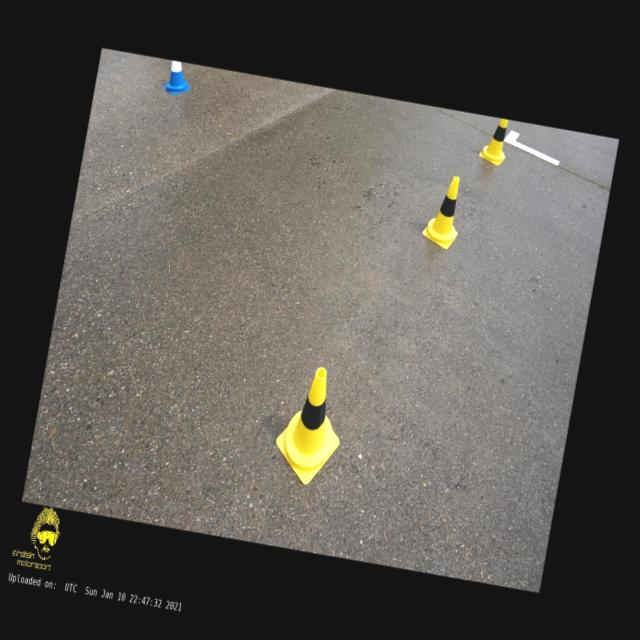blue_cone: (162, 59, 194, 97)
yellow_cone: (270, 362, 352, 490), (419, 172, 466, 250), (477, 116, 511, 166)
